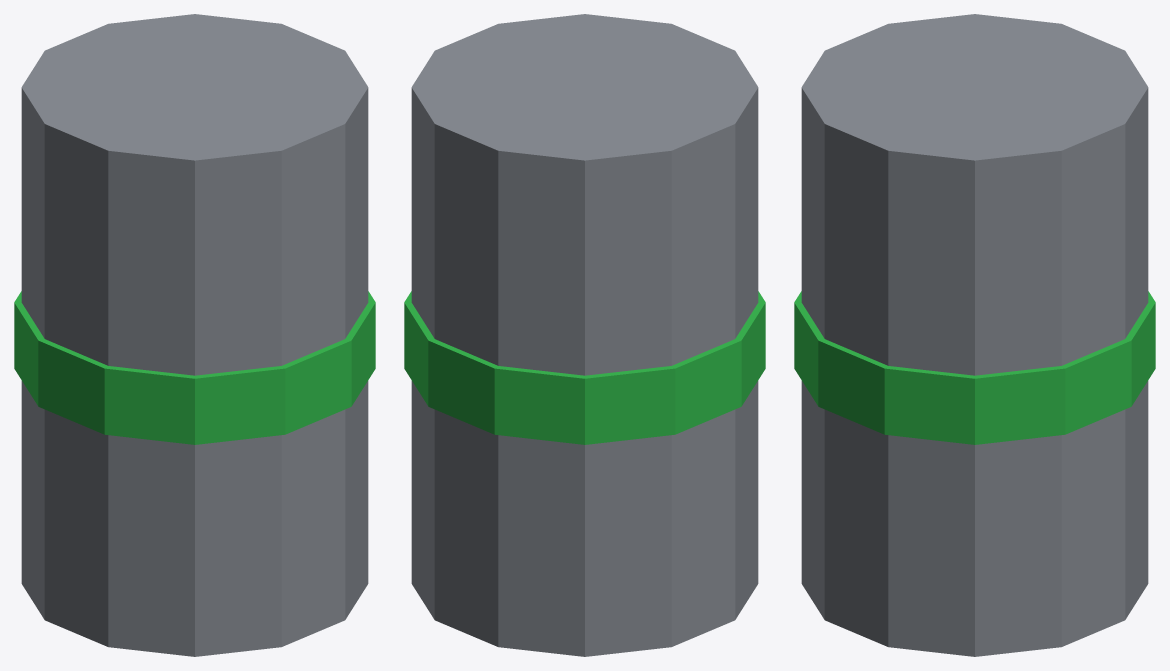
File: TL_Socket_13_38.fbx
The picture shows the model from 3 angles, left to right: view 1: azimuth 30°, elevation 25°; view 2: azimuth 150°, elevation 25°; view 3: azimuth 270°, elevation 25°; orthographic projection.
Parts seen in each view (by area): view 1: TL_Socket_13_38, TL_Socket_13_38_ColorRing; view 2: TL_Socket_13_38, TL_Socket_13_38_ColorRing; view 3: TL_Socket_13_38, TL_Socket_13_38_ColorRing.
Boxes of the visible parts, left/top/right/bottom form: TL_Socket_13_38: left=21, top=14, right=368, bottom=656; TL_Socket_13_38_ColorRing: left=14, top=291, right=375, bottom=444; TL_Socket_13_38: left=411, top=14, right=758, bottom=656; TL_Socket_13_38_ColorRing: left=404, top=291, right=765, bottom=444; TL_Socket_13_38: left=801, top=14, right=1148, bottom=656; TL_Socket_13_38_ColorRing: left=794, top=291, right=1155, bottom=444.
Size of the model in its own units: 0.0198 by 0.03 by 0.0198.
Materials: 1 (1 with a texture image).
